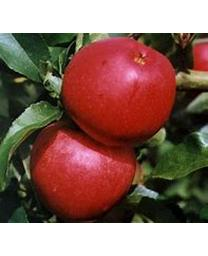apple: (60, 37, 175, 148), (30, 122, 137, 222)
